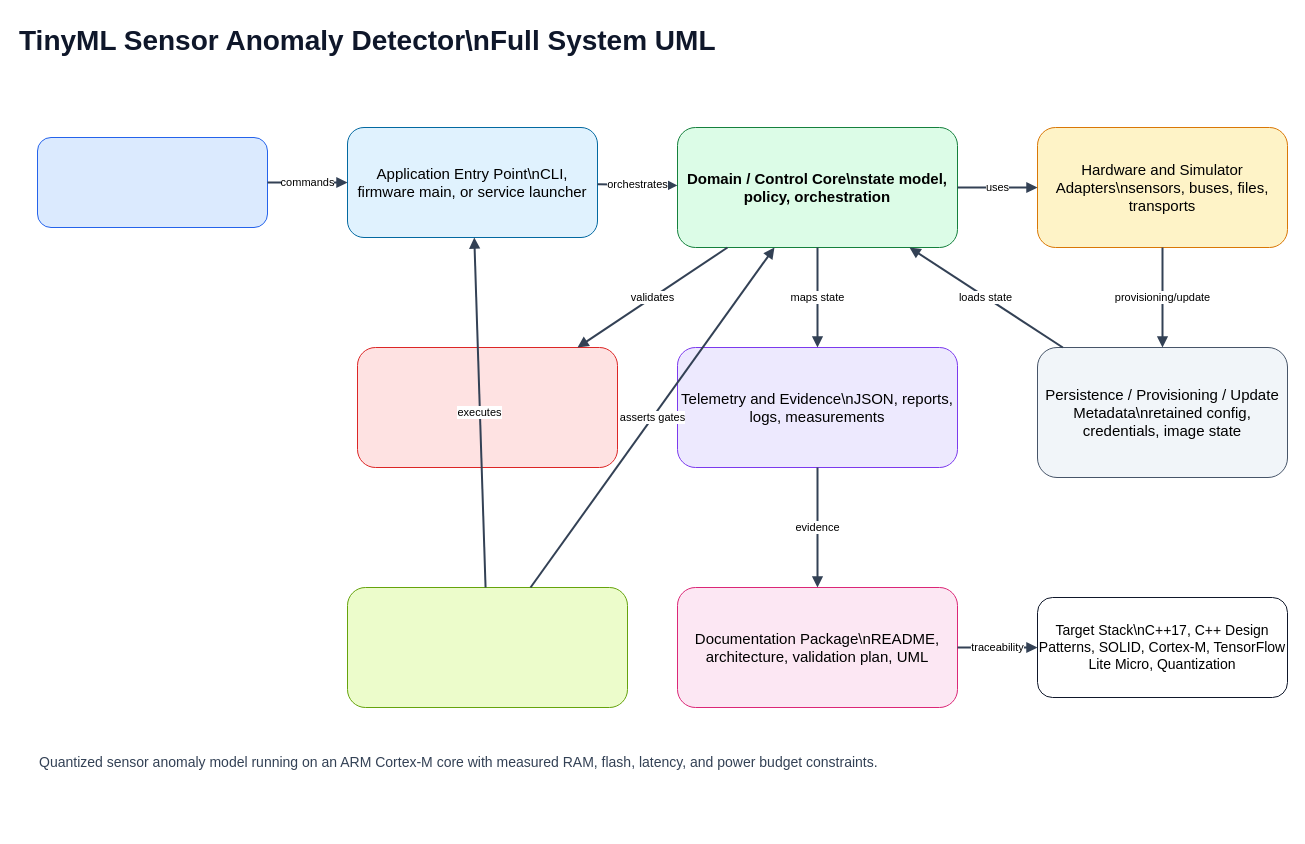
Some shapes in this 1305 by 844 pixel diagram are drawn without their labels. Each missing label, with the box of its shape:
Operator / Cloud / Test Harness: (36, 136, 268, 228)
Safety / Readiness Gates\nconfig, battery, timing, OTA, bounds: (356, 346, 618, 468)
Tests and CI\nCMake, CTest, smoke runs, expected failures: (346, 586, 628, 708)
